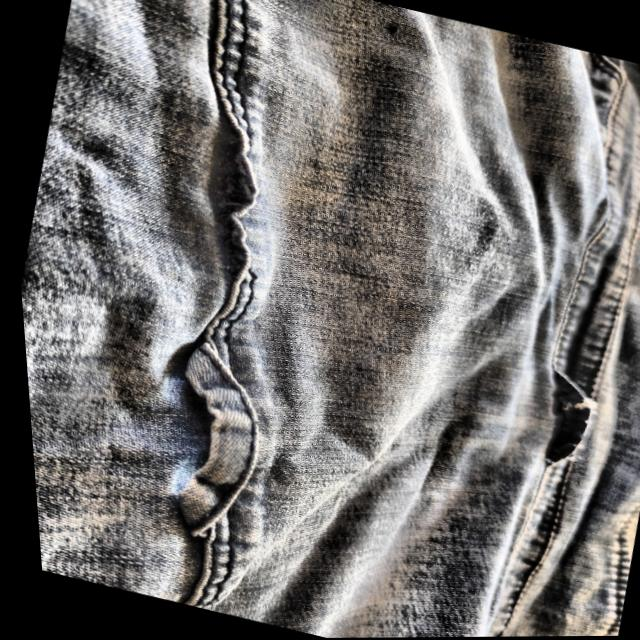seam: (155, 95, 298, 307), (505, 359, 600, 474)
